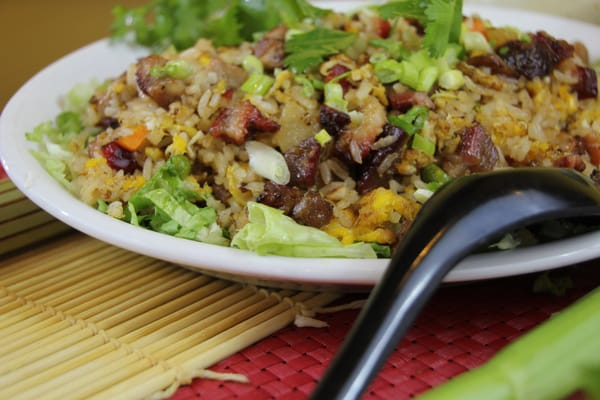salad: (308, 165, 600, 395)
sushi: (5, 0, 598, 301)
